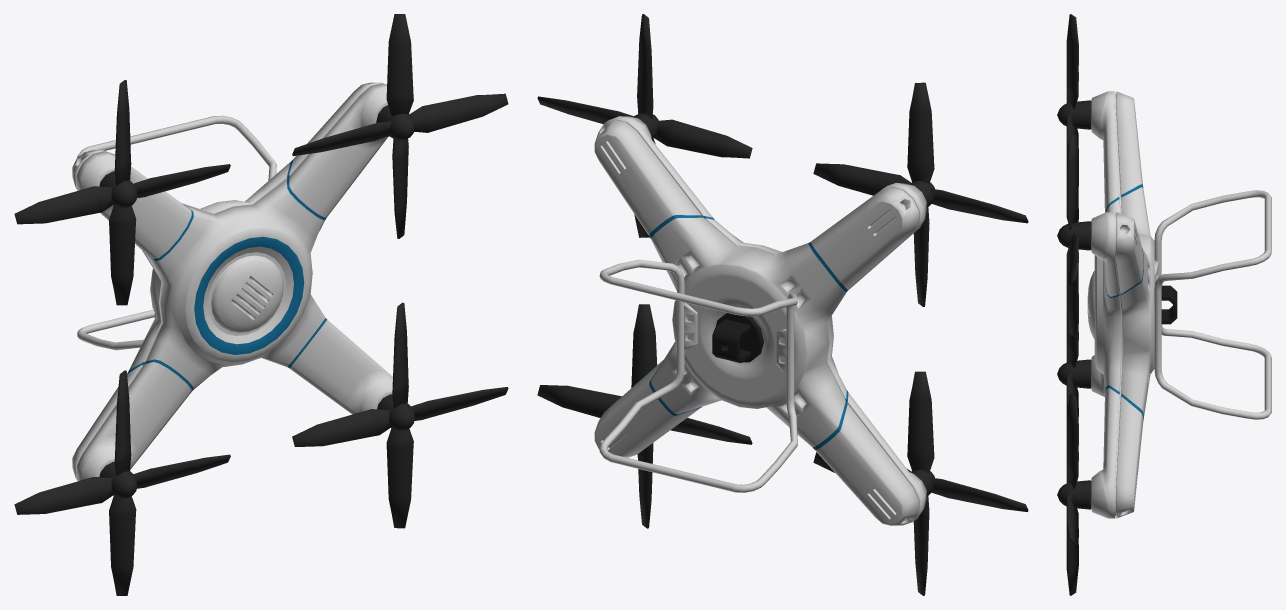
File: quadcopter.obj
The picture shows the model from 3 angles, left to right: view 1: azimuth 30°, elevation 25°; view 2: azimuth 150°, elevation 25°; view 3: azimuth 270°, elevation 25°; orthographic projection. The views are drawn at different scales.
Visible parts, largest first — view 1: quadcopter.obj; view 2: quadcopter.obj; view 3: quadcopter.obj.
Part boxes in pixels (x1=…): quadcopter.obj: x1=14, y1=14, x2=508, y2=595; quadcopter.obj: x1=537, y1=14, x2=1028, y2=595; quadcopter.obj: x1=1057, y1=14, x2=1271, y2=595.
Bounding box in the file's own units: 0.4622 × 0.4622 × 0.1966.
